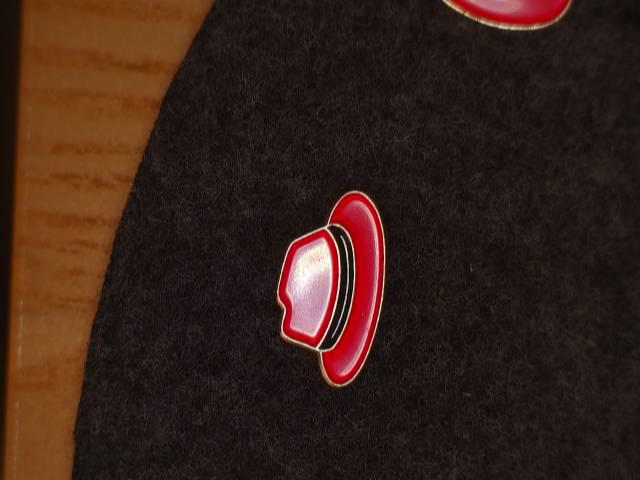Red-Hat: (258, 170, 419, 407)
